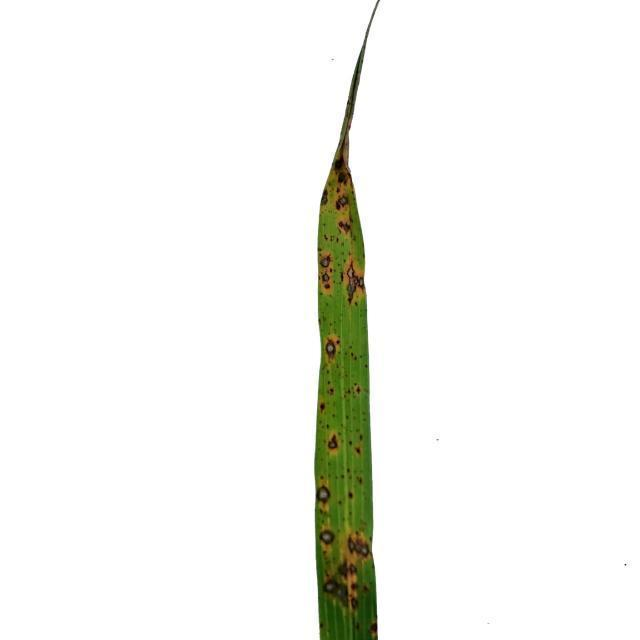Leaf_Blast: (345, 530, 369, 560), (348, 257, 364, 301), (327, 427, 346, 461), (315, 478, 333, 510), (325, 335, 339, 366), (339, 216, 357, 238), (332, 157, 345, 183), (338, 187, 350, 209), (322, 255, 332, 272), (348, 561, 358, 578), (321, 273, 331, 284)
